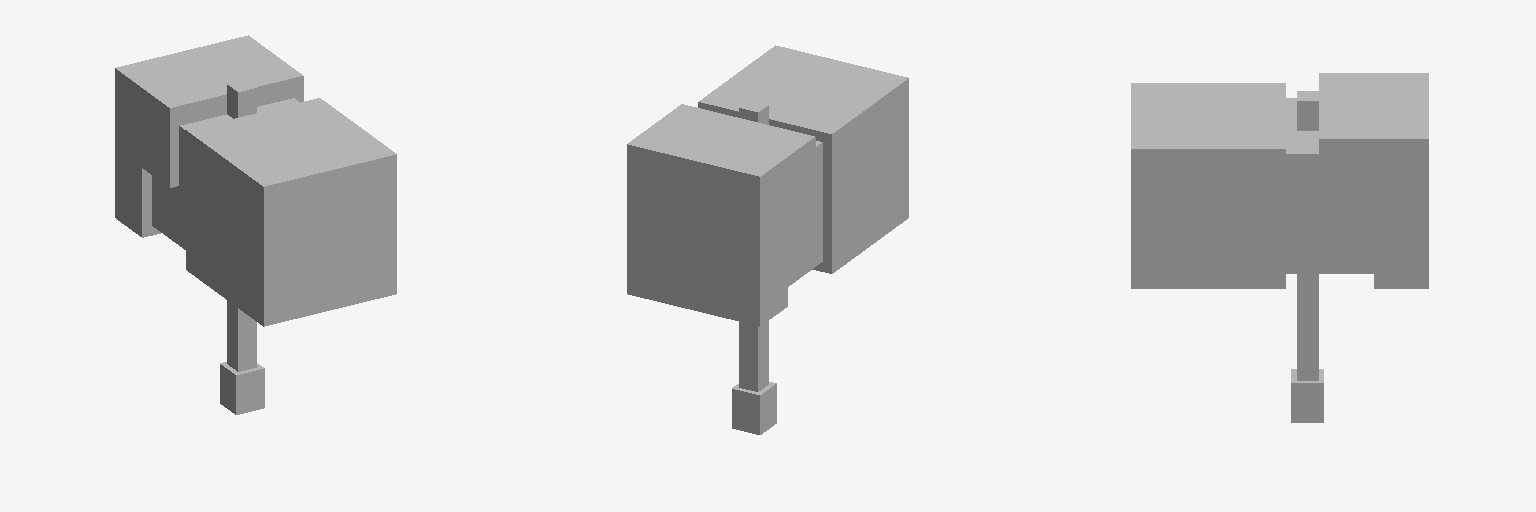
File: Hydraulic Hammer.obj
3 renders of one model, left to right at view 1: azimuth 30°, elevation 25°; view 2: azimuth 150°, elevation 25°; view 3: azimuth 270°, elevation 25°, orthographic.
Parts seen in each view (by area): view 1: Block holder outside, Front, Back, Head base, Grip, Pommel; view 2: Front, Block holder outside, Back, Grip, Head base, Pommel; view 3: Block holder outside, Front, Head base, Back, Grip, Pommel.
Part boxes in pixels (x1,y1,x2,y2): Block holder outside: (186,98,396,326); Front: (115,35,275,237); Back: (142,56,303,187); Head base: (152,98,299,249); Grip: (227,80,256,371); Pommel: (220,362,264,414); Front: (627,124,787,326); Block holder outside: (698,45,908,273); Back: (655,104,815,235); Grip: (739,100,768,391); Head base: (788,141,822,286); Pommel: (732,382,776,434); Block holder outside: (1131,83,1285,288); Front: (1374,73,1428,288); Head base: (1286,98,1373,273); Back: (1319,73,1373,218); Grip: (1297,91,1318,380); Pommel: (1291,369,1323,422).
Bounding box in the file's own units: 0.875 × 2 × 1.69.